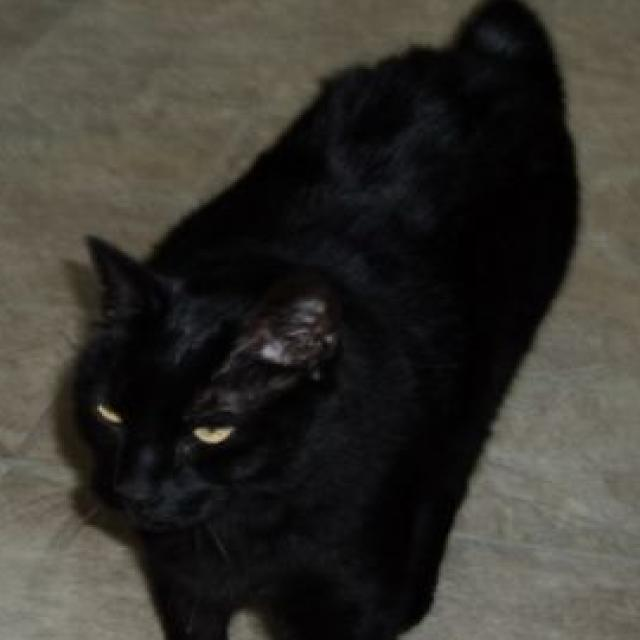American Bobtail: (59, 0, 590, 640)
